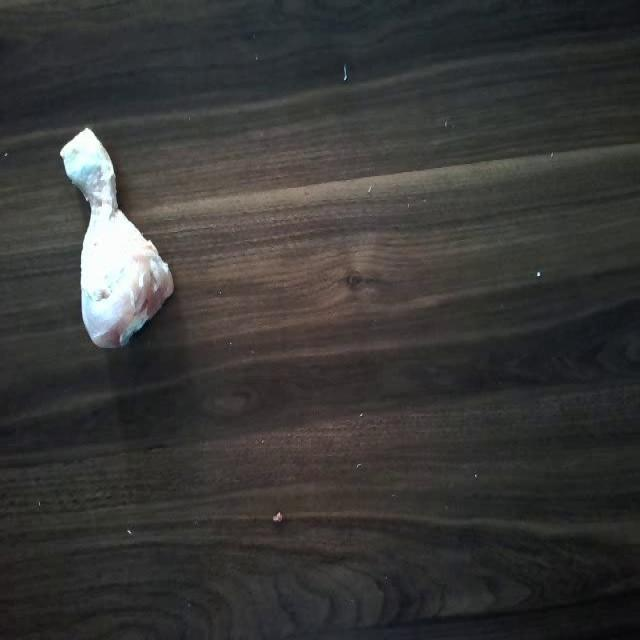leg: (62, 124, 176, 350)
